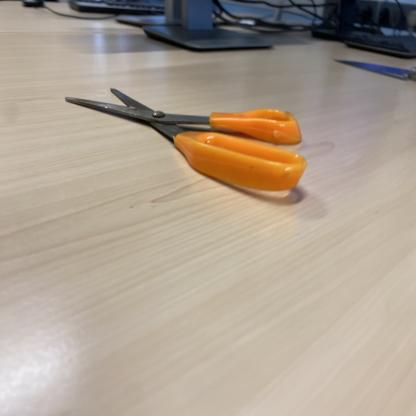Knife: (334, 58, 416, 86)
scissors: (63, 86, 308, 196)
